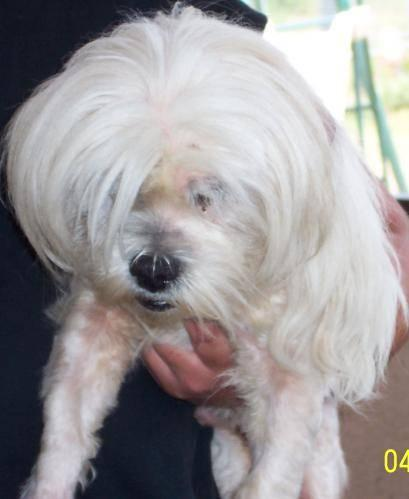dog: (1, 3, 408, 498)
